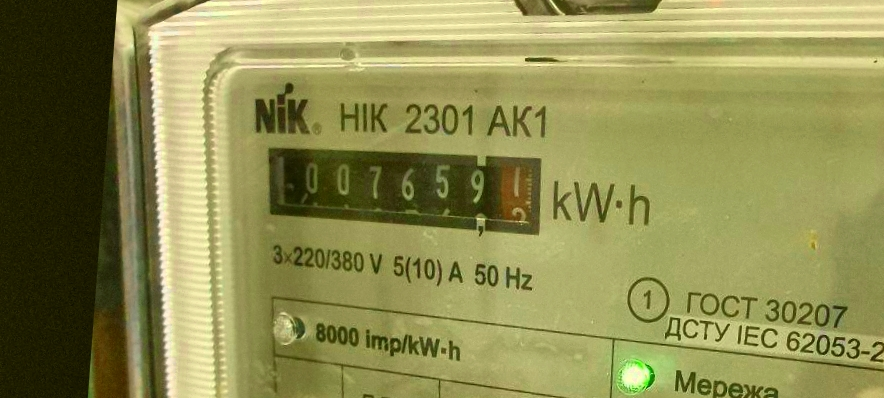0: (331, 158, 354, 199), (300, 158, 323, 197)
1: (505, 162, 526, 200)
5: (429, 160, 454, 202)
6: (395, 162, 420, 204)
7: (362, 160, 387, 201)
9: (465, 165, 489, 206)
screen: (253, 131, 551, 245)
